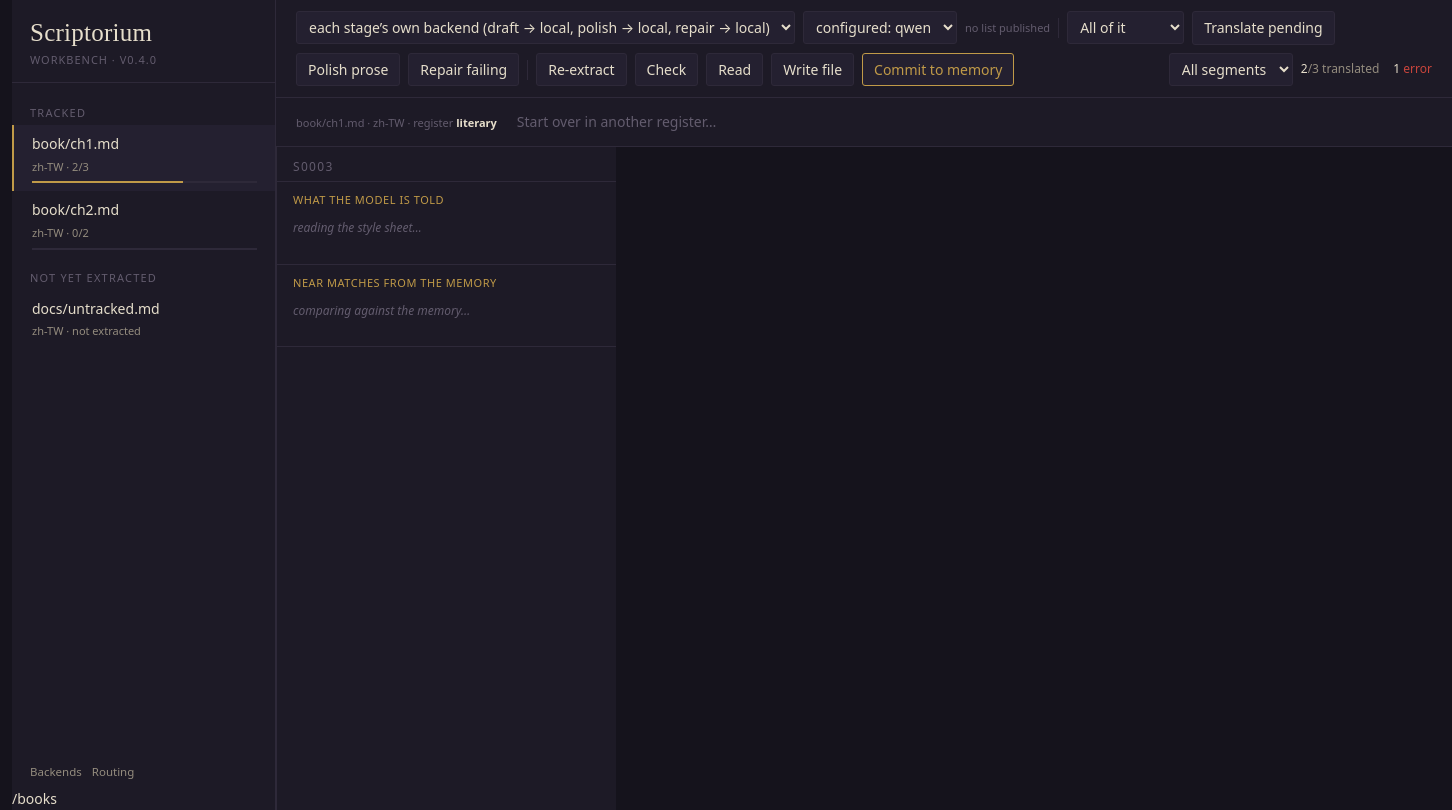
Test case: the rail's Not yet extracted entry › opens a file a terminal has extracted since the list was read, and offers no extract
Expected: the text "/3 translated" is shown, [1301,60,1379,79]
Click the button "docs/untracked.md zh-TW · not extracted" at x=144, y=320, box [12,290,275,349]
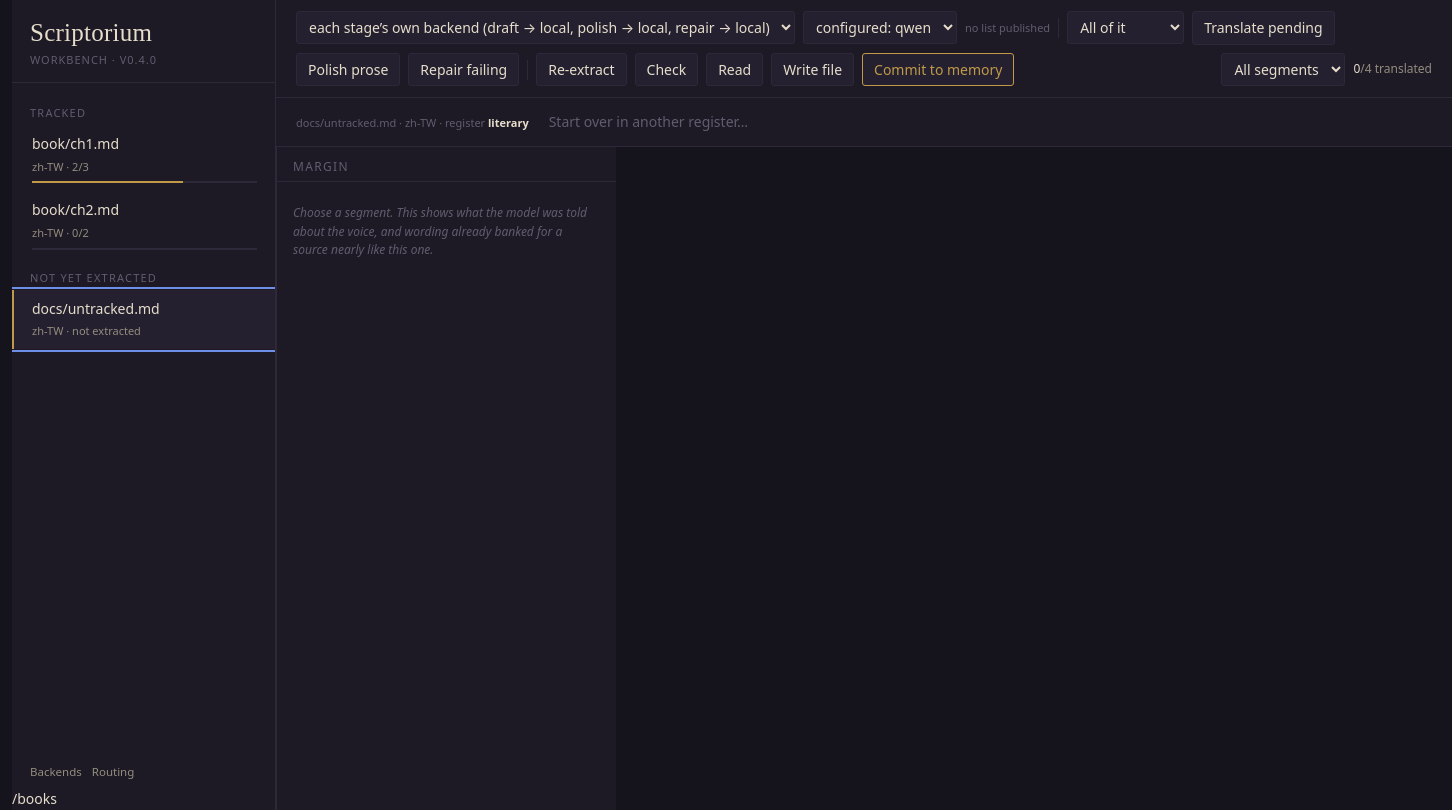
Now the text "/4 translated" is shown, box [1353,60,1432,79]
